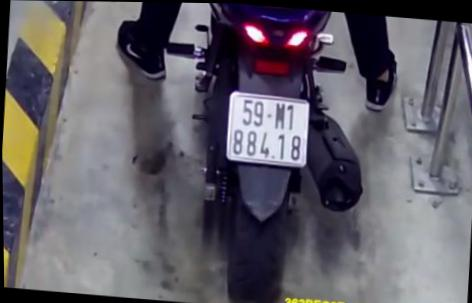LP: (223, 88, 312, 169)
